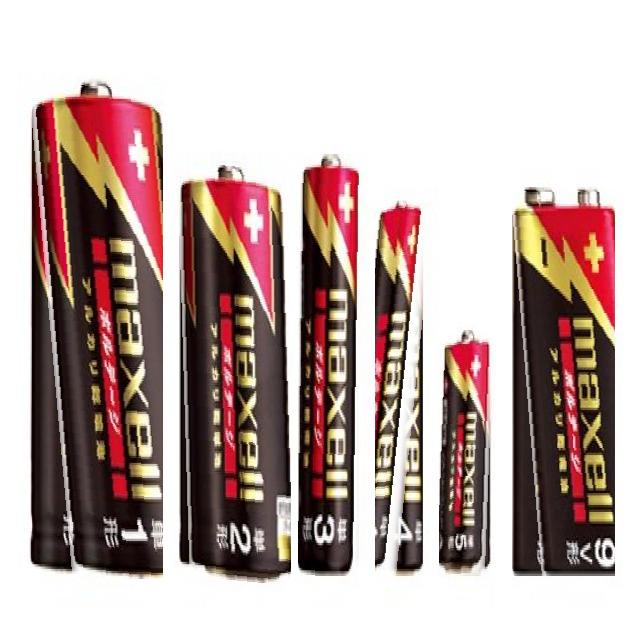battery: (27, 66, 163, 580), (177, 151, 291, 593), (510, 184, 615, 578), (298, 150, 371, 586), (375, 196, 436, 594), (439, 330, 494, 580)
